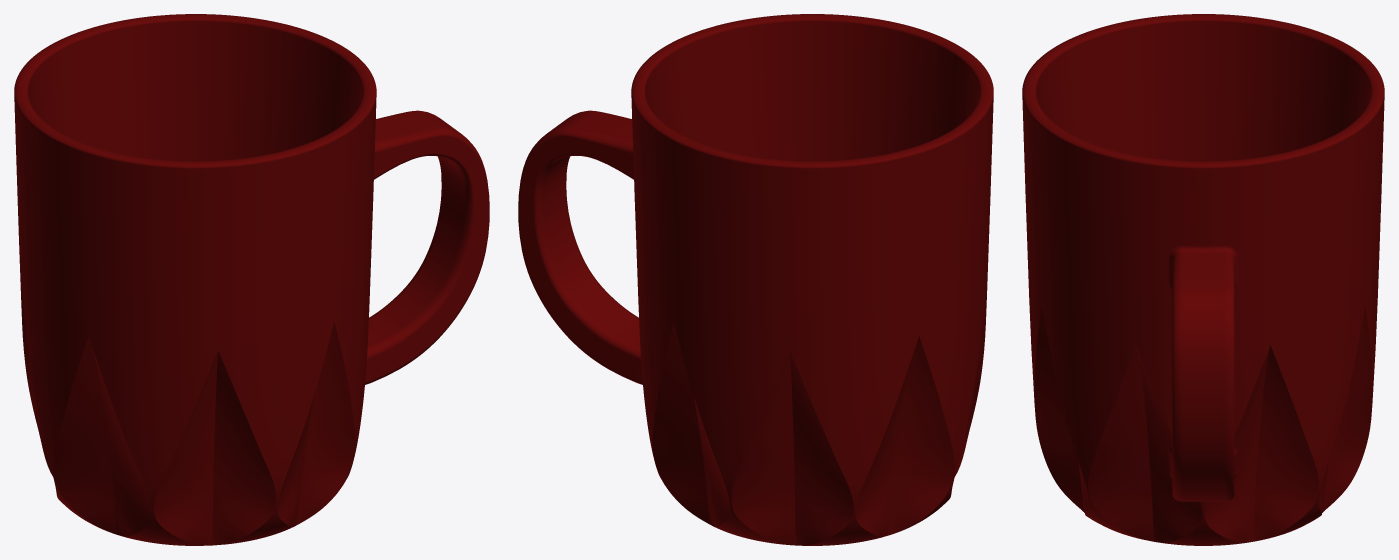
File: holymug.glb
3 renders of one model, left to right at view 1: azimuth 30°, elevation 25°; view 2: azimuth 150°, elevation 25°; view 3: azimuth 270°, elevation 25°, orthographic.
Bounding box in the file's own units: 0.0978 × 0.0857 × 0.07.
